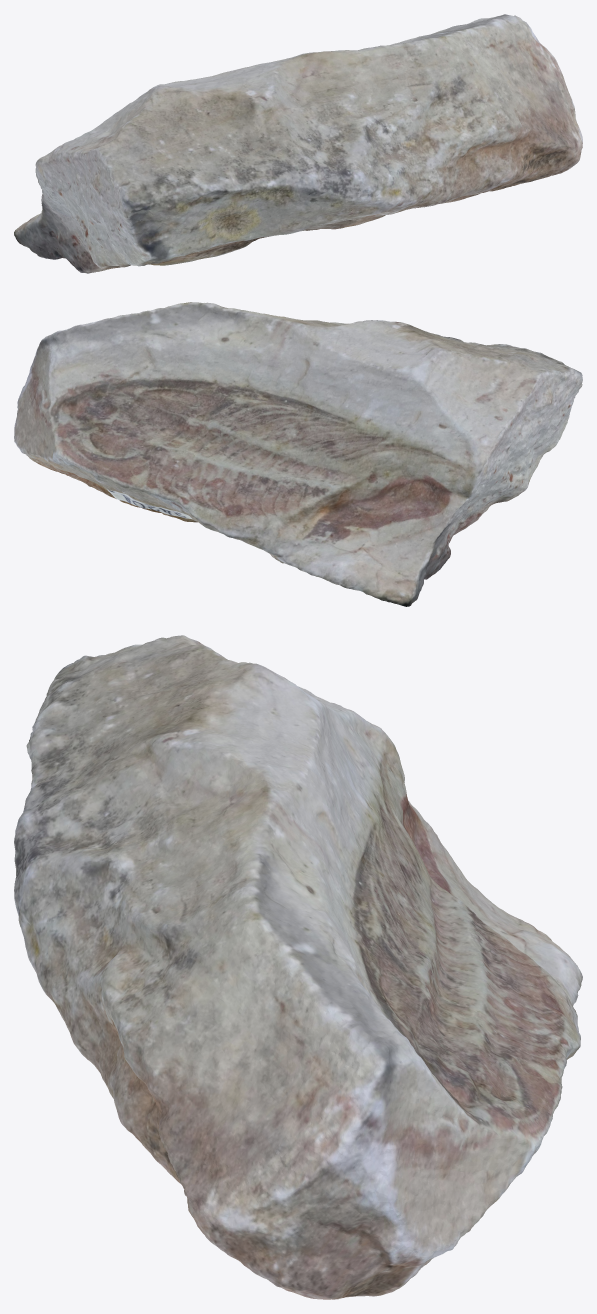
File: trilobite.glb
The picture shows the model from 3 angles, top to bottom: view 1: azimuth 30°, elevation 25°; view 2: azimuth 150°, elevation 25°; view 3: azimuth 270°, elevation 25°; orthographic projection. The views are drawn at different scales.
Parts seen in each view (by area): view 1: Object_2; view 2: Object_2; view 3: Object_2.
Part boxes in pixels (x1,y1,x2,y2): Object_2: [14, 14, 582, 273]; Object_2: [14, 302, 582, 606]; Object_2: [14, 635, 582, 1299].
Size of the model in its own units: 1.21 by 0.47 by 0.7061.
Materials: 1 (1 with a texture image).
